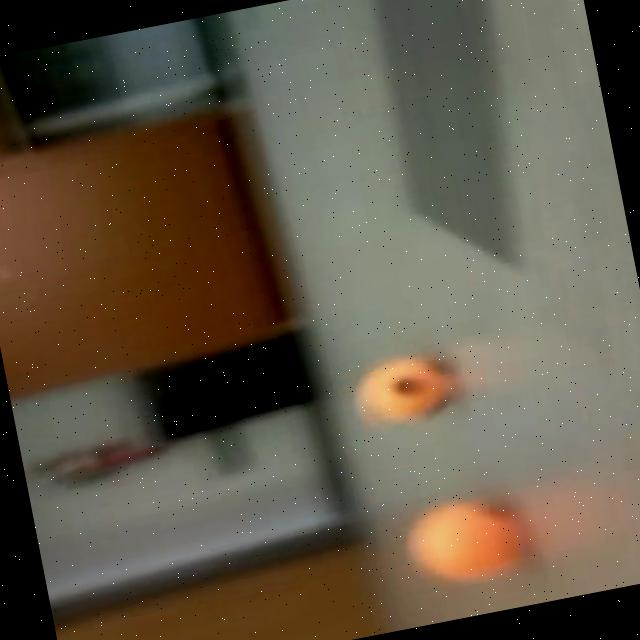ping-pong-ball: (390, 484, 536, 604), (344, 340, 468, 442)
